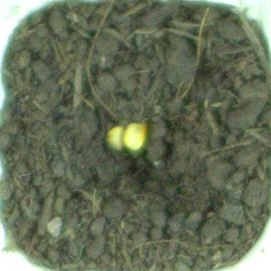chilli seed: (122, 121, 148, 152), (103, 124, 129, 150)
